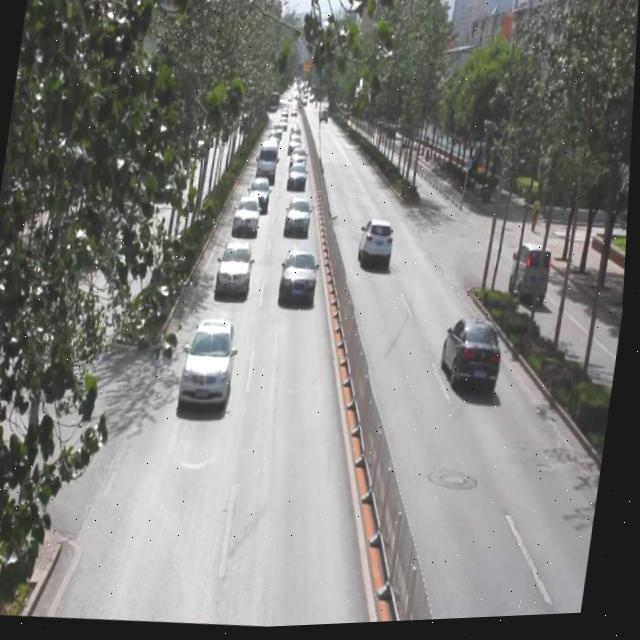car: (440, 317, 507, 406), (183, 314, 240, 408), (279, 247, 322, 310), (217, 241, 257, 301), (358, 218, 397, 275), (233, 195, 264, 240), (283, 199, 314, 243), (246, 177, 273, 217), (287, 162, 309, 194)
truck: (509, 240, 553, 305), (256, 141, 281, 183)
